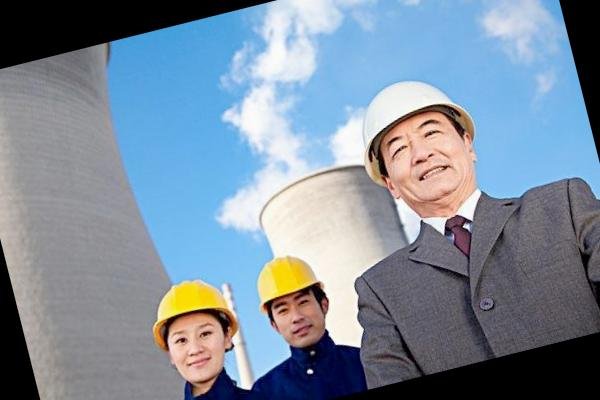helmet: (343, 65, 484, 187), (144, 272, 232, 332), (251, 244, 320, 308)
no_vest: (355, 178, 600, 383), (256, 334, 369, 400), (113, 370, 263, 400)
person: (313, 42, 600, 385), (96, 266, 262, 400), (234, 242, 371, 400)
